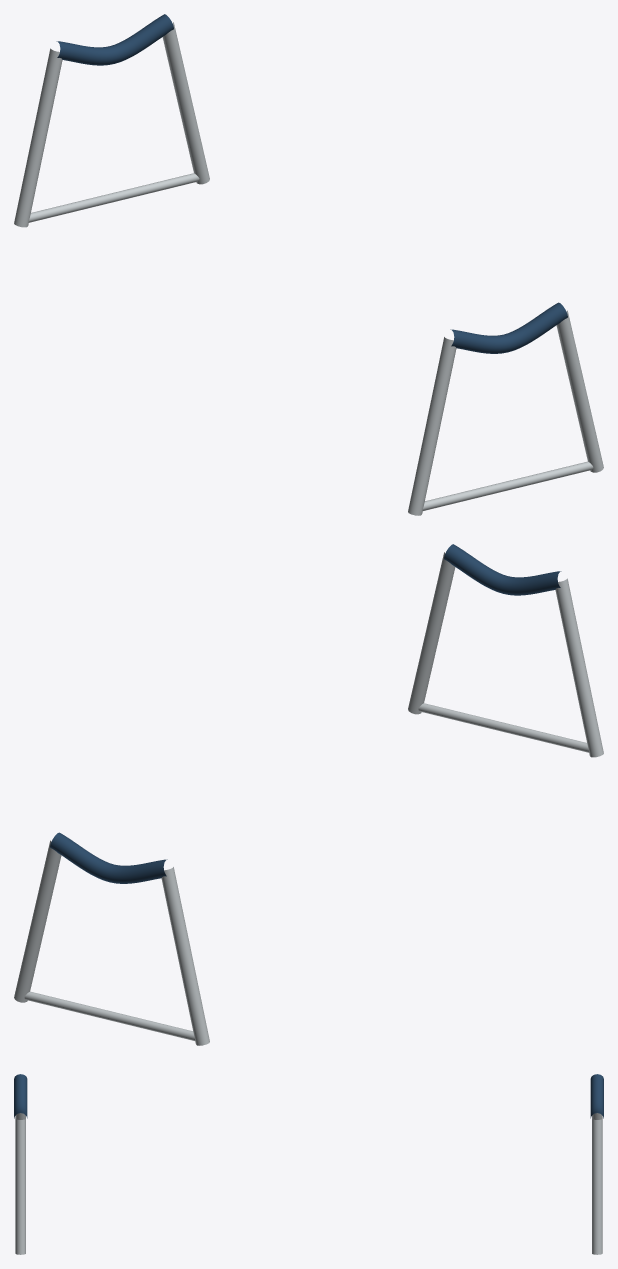
File: rowing-boathouse-and-regatta-course-trestle-pair-72b71556__32142.glb
3 renders of one model, top to bottom at view 1: azimuth 30°, elevation 25°; view 2: azimuth 150°, elevation 25°; view 3: azimuth 270°, elevation 25°, orthographic. The views are drawn at different scales.
Parts seen in each view (by area): view 1: trestle-pair; view 2: trestle-pair; view 3: trestle-pair.
Boxes of the visible parts, left/top/right/bottom form: trestle-pair: left=14, top=14, right=603, bottom=515; trestle-pair: left=14, top=544, right=603, bottom=1045; trestle-pair: left=14, top=1074, right=603, bottom=1254.
Bounding box in the file's own units: 0.8537 × 0.7395 × 3.07.
